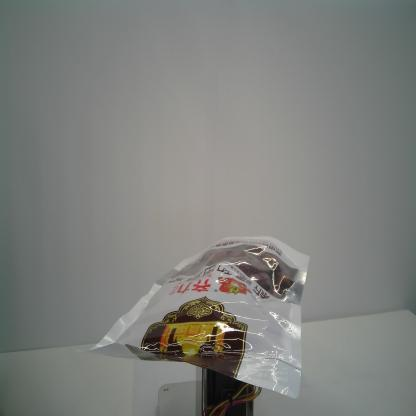Dried Food: (86, 233, 312, 400)
